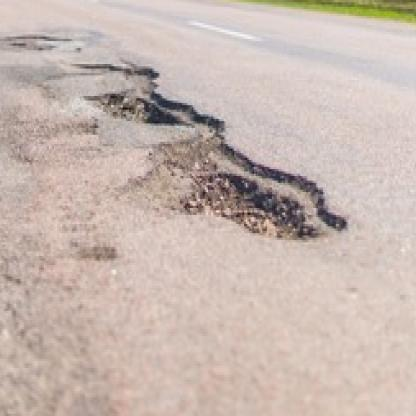pothole: (118, 131, 349, 243), (83, 85, 226, 137), (72, 62, 162, 85), (0, 35, 74, 51)
